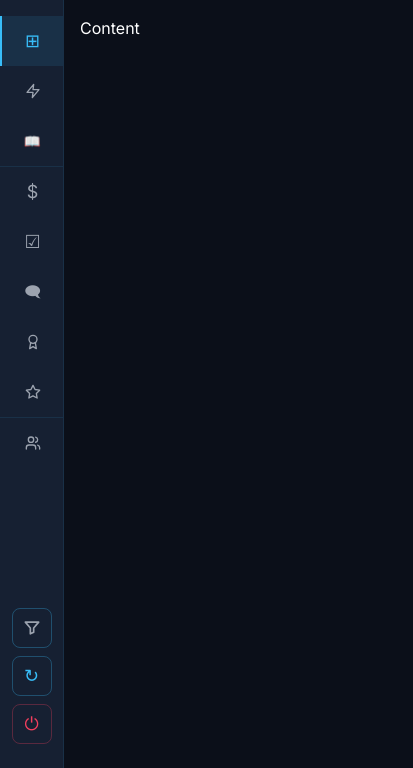
Test case: Layout › opens course filter menu from the filter button and shows courses
Click the button titled "Фильтр по курсам" at (32,628), box [12, 608, 52, 648]
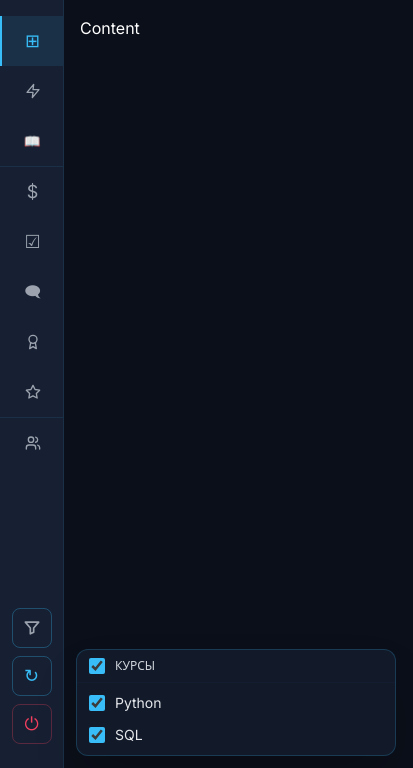
Expected: the menu is shown, [76, 649, 396, 756]
Expected: the text "Python" is shown, [115, 693, 162, 713]
Expected: the text "SQL" is shown, [115, 725, 143, 745]
Press Escape
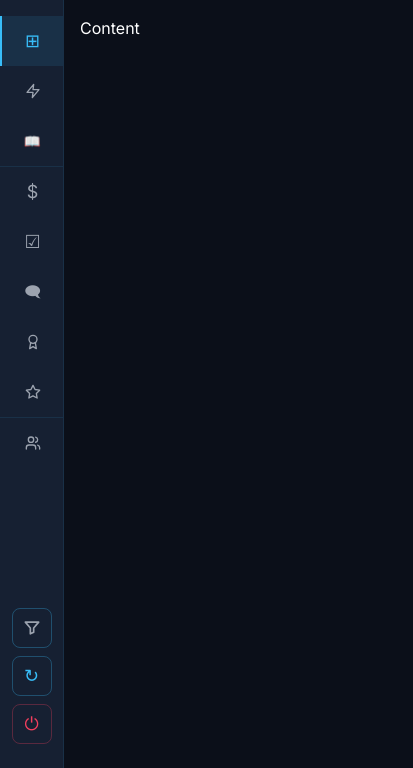
Expected: the menu is gone
